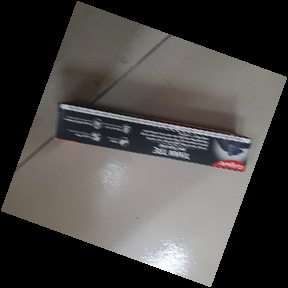Colgate Than: (54, 101, 252, 176)
